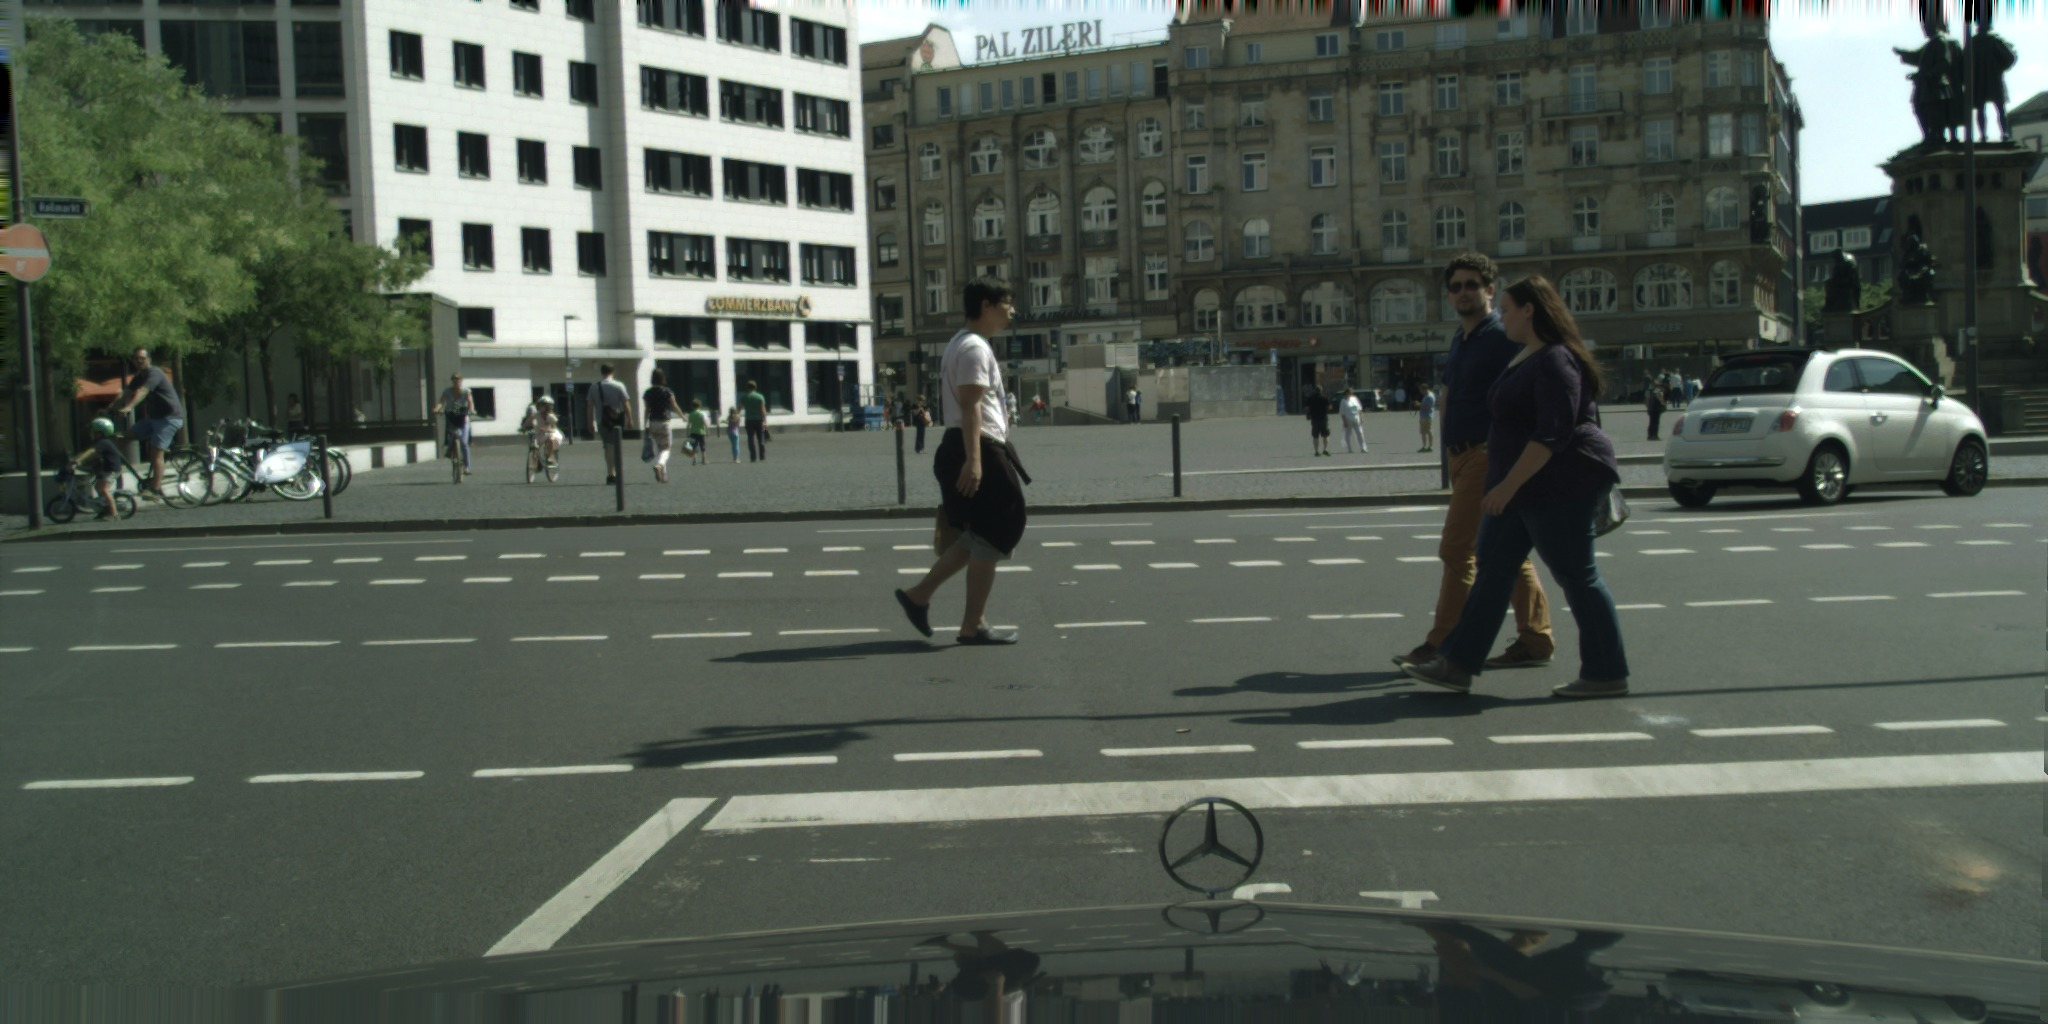bicycle: (185, 418, 326, 507), (100, 409, 213, 510), (46, 449, 137, 525), (433, 408, 479, 484), (523, 430, 559, 484)
car: (1662, 344, 1990, 509), (1321, 389, 1387, 414), (1610, 387, 1686, 405)
person: (1399, 272, 1632, 698), (1391, 251, 1555, 672), (893, 277, 1032, 645), (586, 362, 634, 485), (640, 368, 687, 485), (730, 379, 773, 461), (1305, 384, 1334, 457), (1338, 387, 1368, 454), (681, 398, 710, 465), (1411, 382, 1435, 452), (910, 395, 934, 454), (286, 393, 305, 461), (523, 403, 553, 447), (1647, 382, 1667, 441), (1678, 373, 1700, 419), (725, 406, 741, 465), (1667, 365, 1685, 409), (880, 395, 901, 430), (1656, 367, 1675, 403), (1639, 368, 1656, 406), (999, 392, 1018, 425), (1380, 382, 1400, 411), (1125, 384, 1139, 425), (1691, 376, 1707, 412), (1029, 393, 1045, 425), (891, 397, 905, 430), (1301, 378, 1315, 409), (1131, 387, 1143, 424), (1661, 370, 1675, 403), (1394, 381, 1406, 411), (902, 398, 912, 425)
rider: (92, 344, 183, 501), (66, 416, 123, 520), (430, 371, 476, 474), (520, 395, 566, 468)
